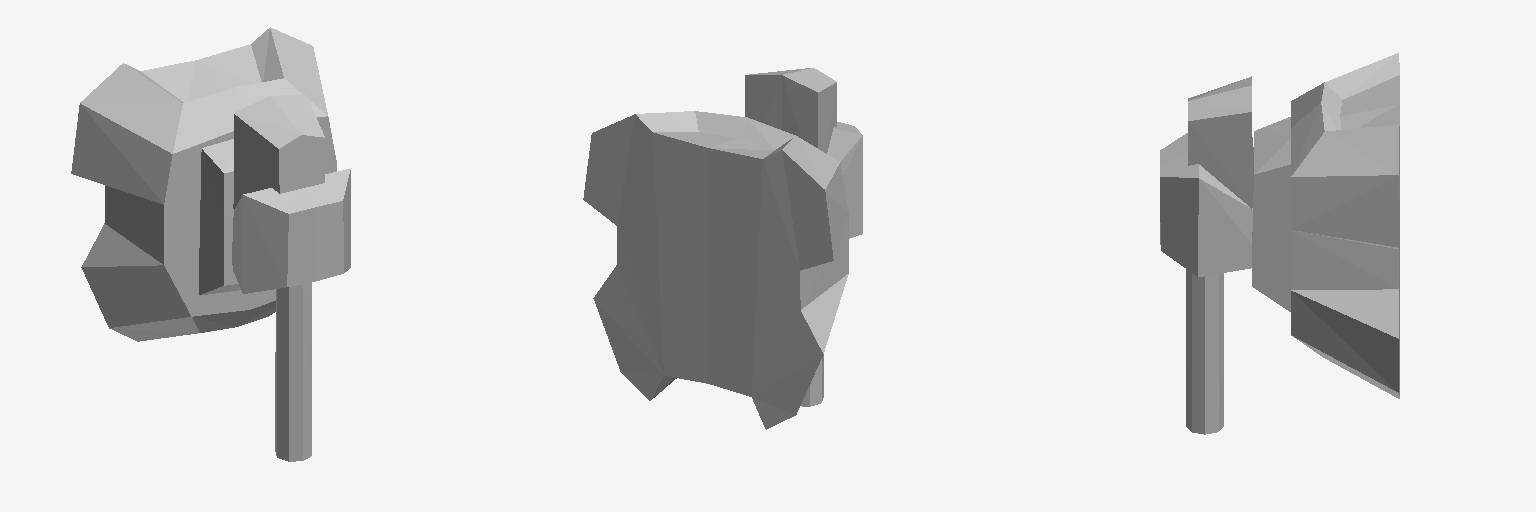
The model's file is turret-14.obj.
The picture shows the model from 3 angles: view 1: azimuth 30°, elevation 25°; view 2: azimuth 150°, elevation 25°; view 3: azimuth 270°, elevation 25°; orthographic projection.
Visible parts, largest first — view 1: turret_14; view 2: turret_14; view 3: turret_14.
Boxes of the visible parts, box(x1,y1,x2,y2) form: turret_14: box(71, 27, 350, 461); turret_14: box(583, 68, 862, 429); turret_14: box(1160, 53, 1399, 434).
Bounding box in the file's own units: 3.43 × 4.46 × 2.85.